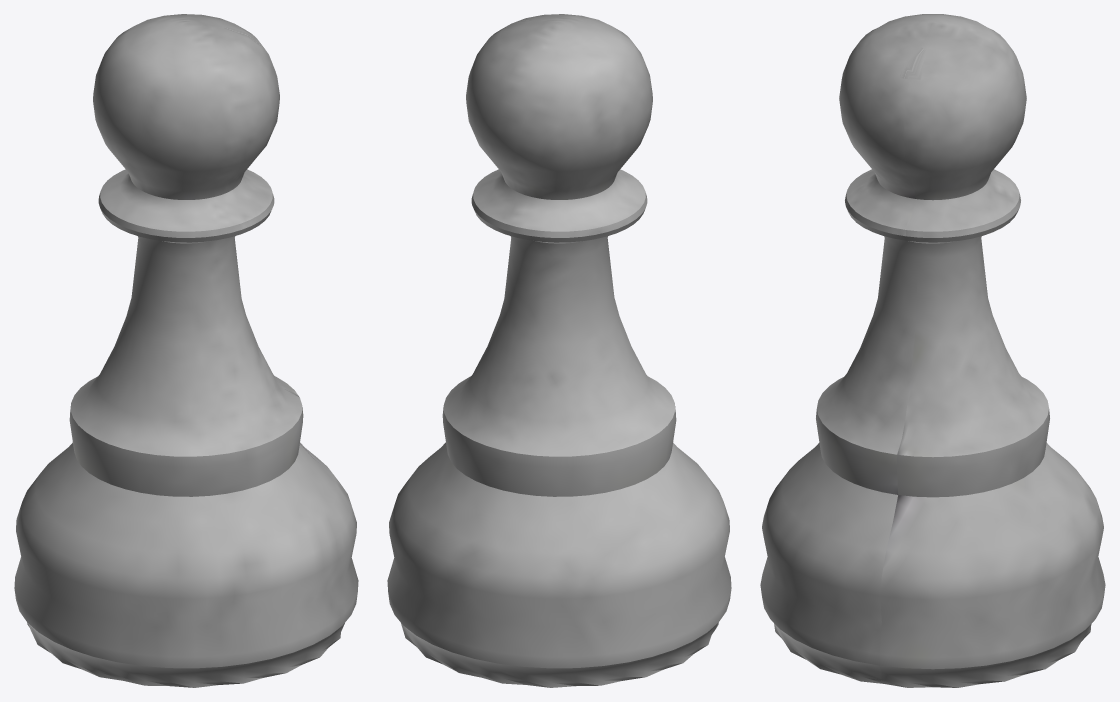
The model's file is peon_Blanca.glb.
3 views of the same model, side by side, from view 1: azimuth 30°, elevation 25°; view 2: azimuth 150°, elevation 25°; view 3: azimuth 270°, elevation 25° (orthographic).
Parts seen in each view (by area): view 1: defaultMaterial.005; view 2: defaultMaterial.005; view 3: defaultMaterial.005.
Part boxes in pixels (x1=…): defaultMaterial.005: x1=14, y1=14, x2=358, y2=687; defaultMaterial.005: x1=387, y1=14, x2=731, y2=687; defaultMaterial.005: x1=760, y1=14, x2=1105, y2=687.
Bounding box in the file's own units: 0.6094 × 1.17 × 0.6094.
Materials: 1 (1 with a texture image).
